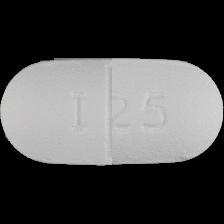60760-420: (0, 0, 224, 224)
